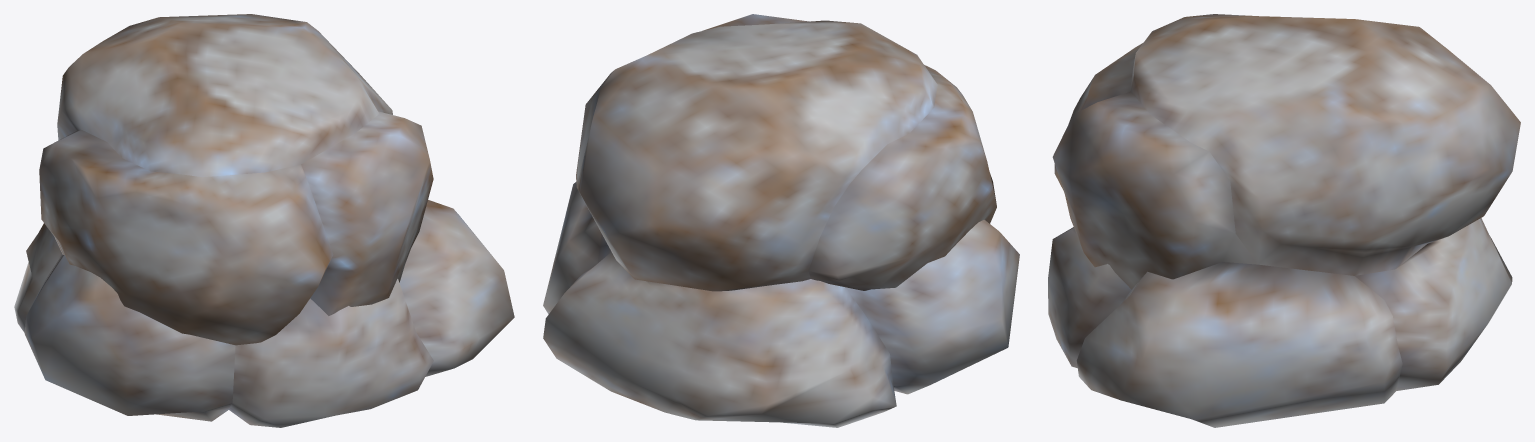
File: sb_obj_nature006_Stone02e.fbx
The picture shows the model from 3 angles, left to right: view 1: azimuth 30°, elevation 25°; view 2: azimuth 150°, elevation 25°; view 3: azimuth 270°, elevation 25°; orthographic projection. The views are drawn at different scales.
Parts seen in each view (by area): view 1: sb_obj_nature006_Stone02e; view 2: sb_obj_nature006_Stone02e; view 3: sb_obj_nature006_Stone02e.
Part boxes in pixels (x1,y1,x2,y2): sb_obj_nature006_Stone02e: (14,14,514,427); sb_obj_nature006_Stone02e: (543,14,1019,427); sb_obj_nature006_Stone02e: (1048,14,1520,427).
Size of the model in its own units: 0.5374 by 0.347 by 0.5011.
